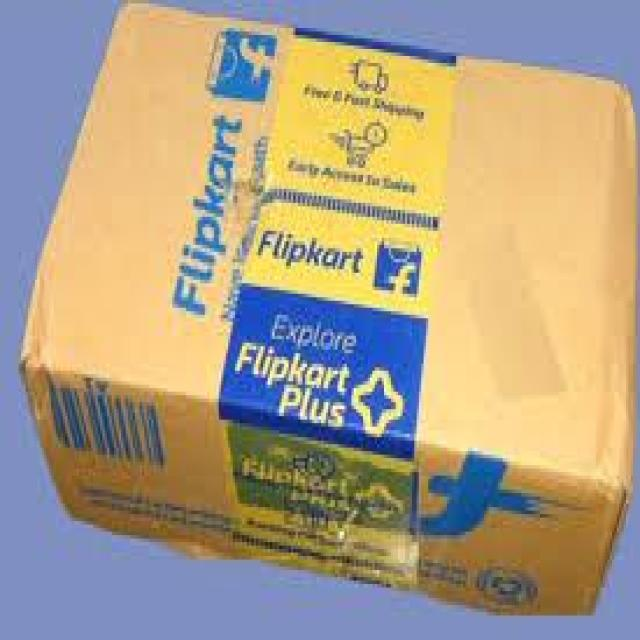box: (16, 11, 640, 626)
